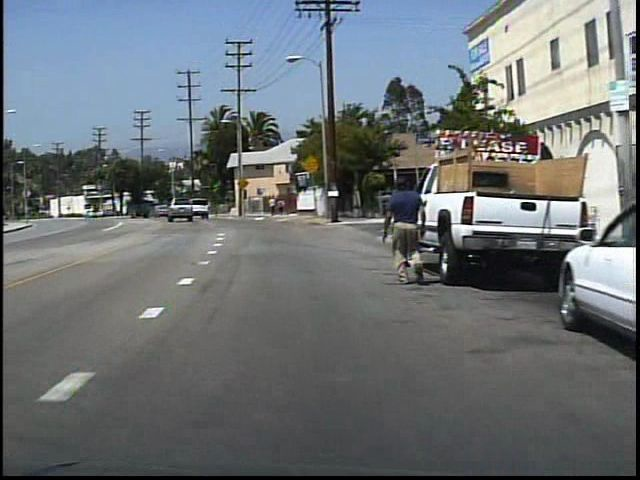person: (377, 170, 427, 287), (268, 194, 277, 219), (276, 197, 286, 217)
